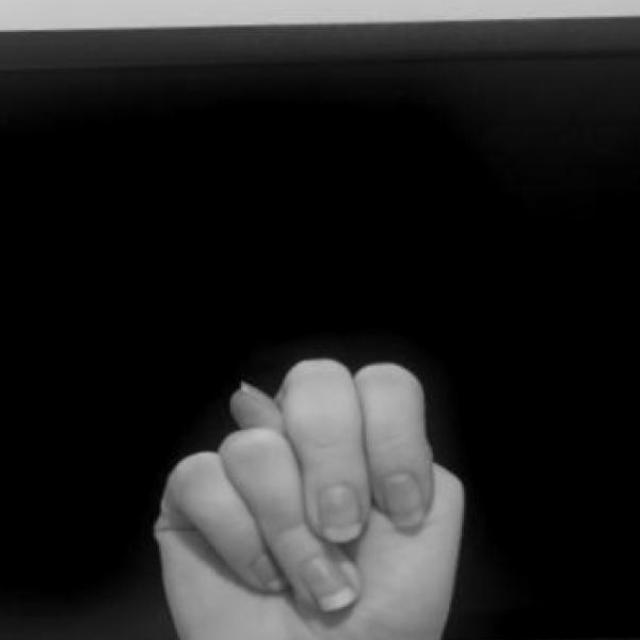N: (143, 338, 509, 640)
